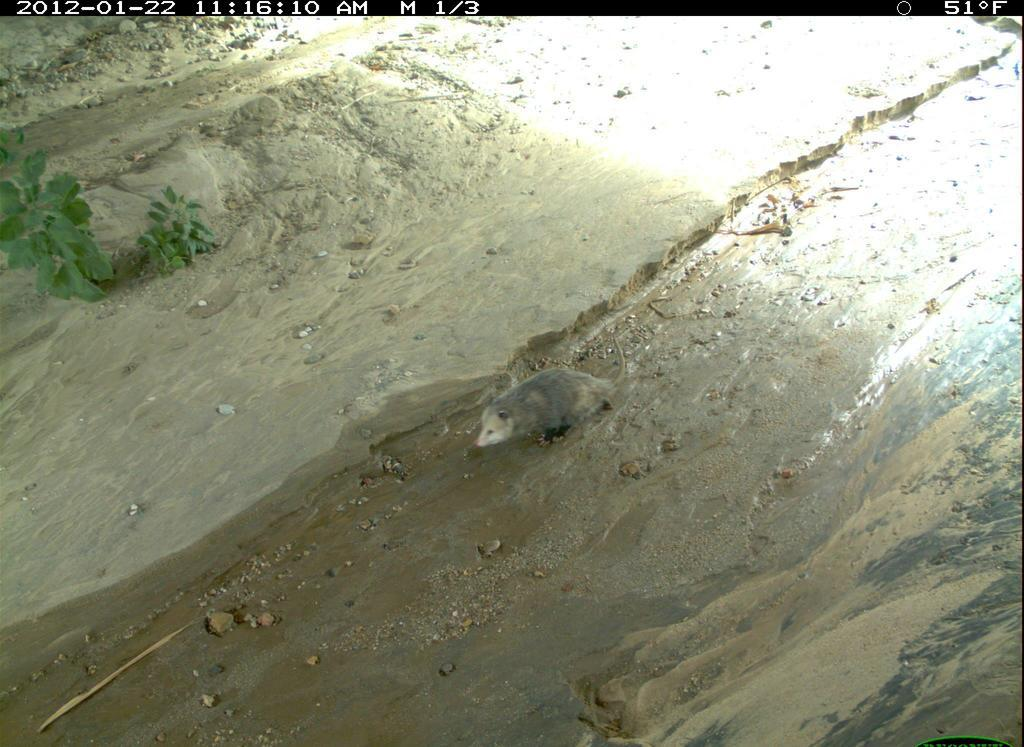opossum: (939, 658, 1024, 747)
